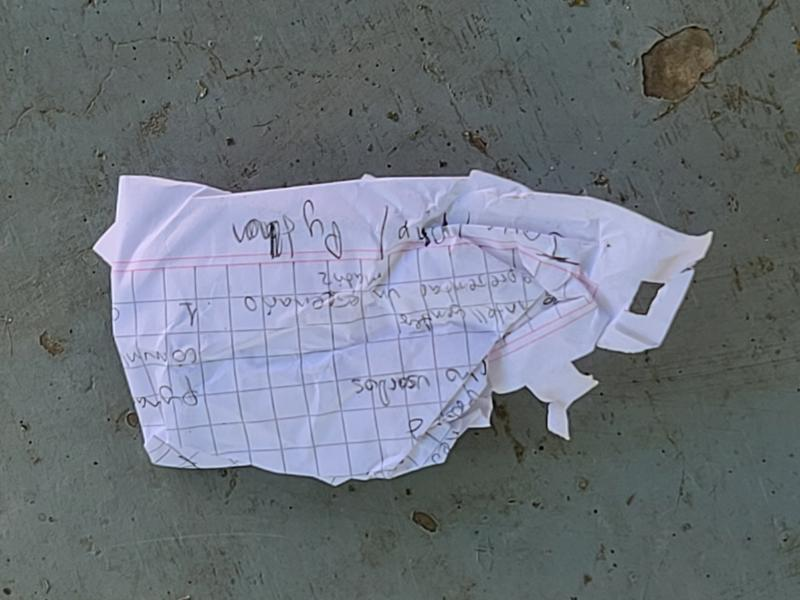papel: (93, 170, 714, 489)
